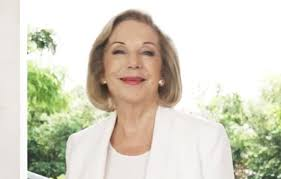white_female: (92, 26, 174, 101)
